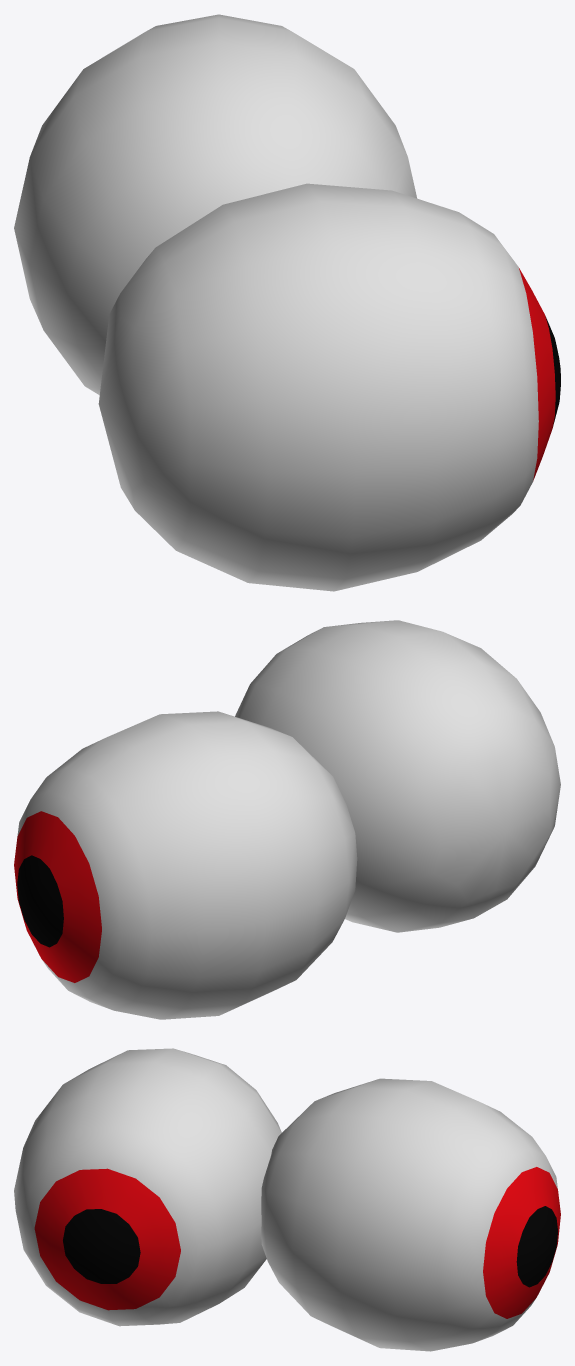
File: eyes.fbx
3 views of the same model, one above another, from view 1: azimuth 30°, elevation 25°; view 2: azimuth 150°, elevation 25°; view 3: azimuth 270°, elevation 25° (orthographic). The views are drawn at different scales.
Parts seen in each view (by area): view 1: Sphere; view 2: Sphere; view 3: Sphere.
Part boxes in pixels (x1,y1,x2,y2): Sphere: [14, 14, 560, 591]; Sphere: [14, 620, 560, 1019]; Sphere: [14, 1048, 560, 1351].
Size of the model in its own units: 215 by 163 by 326.
